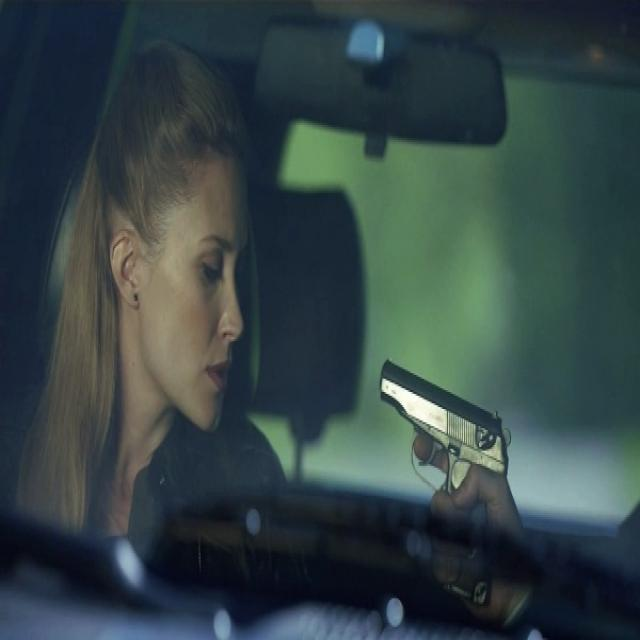weapons: (376, 331, 514, 554)
